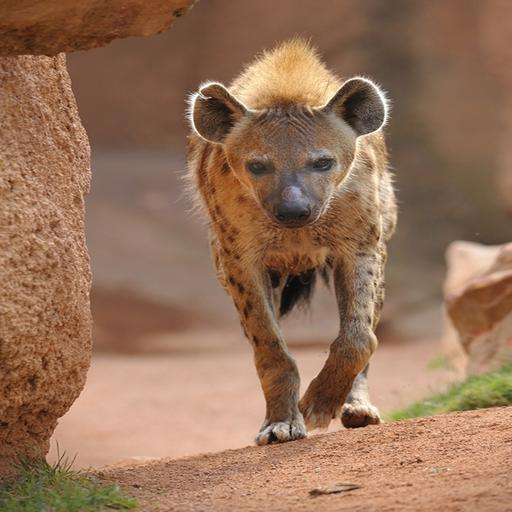Hyena: (182, 35, 400, 450)
